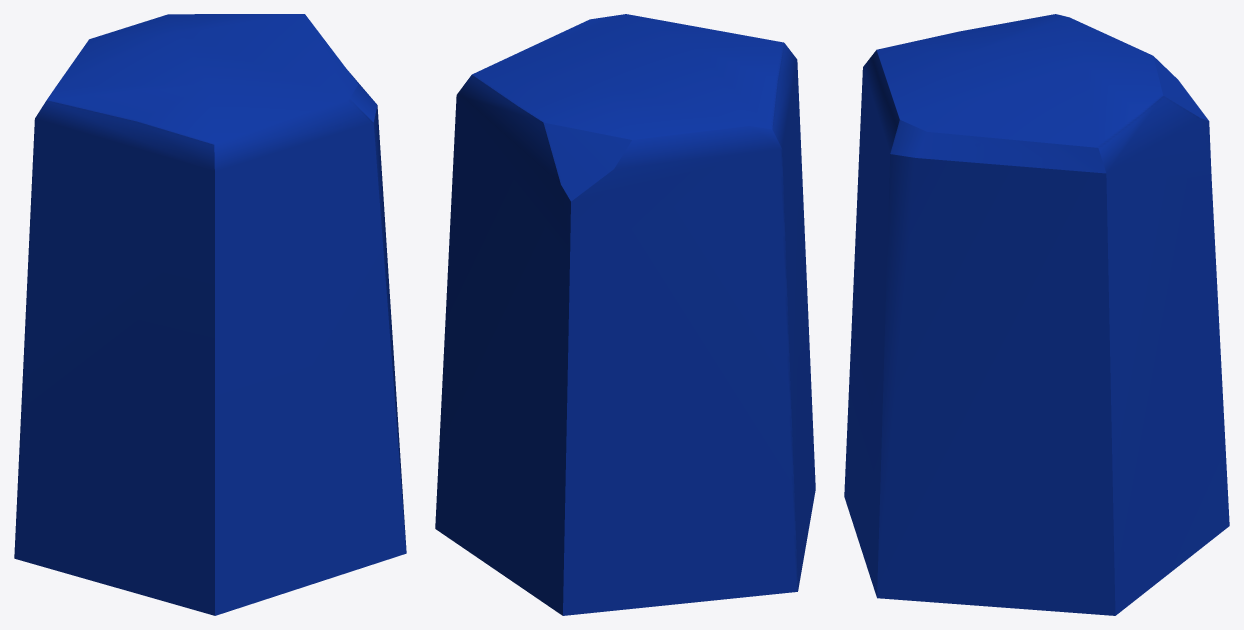
File: Alchemy Crystal 3.fbx
3 views of the same model, side by side, from view 1: azimuth 30°, elevation 25°; view 2: azimuth 150°, elevation 25°; view 3: azimuth 270°, elevation 25° (orthographic).
Parts seen in each view (by area): view 1: Alchemy_Crystal_3; view 2: Alchemy_Crystal_3; view 3: Alchemy_Crystal_3.
Part boxes in pixels (box(x1,y1,x2,y2)): Alchemy_Crystal_3: box(14, 14, 406, 615); Alchemy_Crystal_3: box(435, 14, 815, 615); Alchemy_Crystal_3: box(844, 14, 1229, 615).
Bounding box in the file's own units: 6.52 × 9.1 × 6.48.
Materials: 1 (1 with a texture image).
